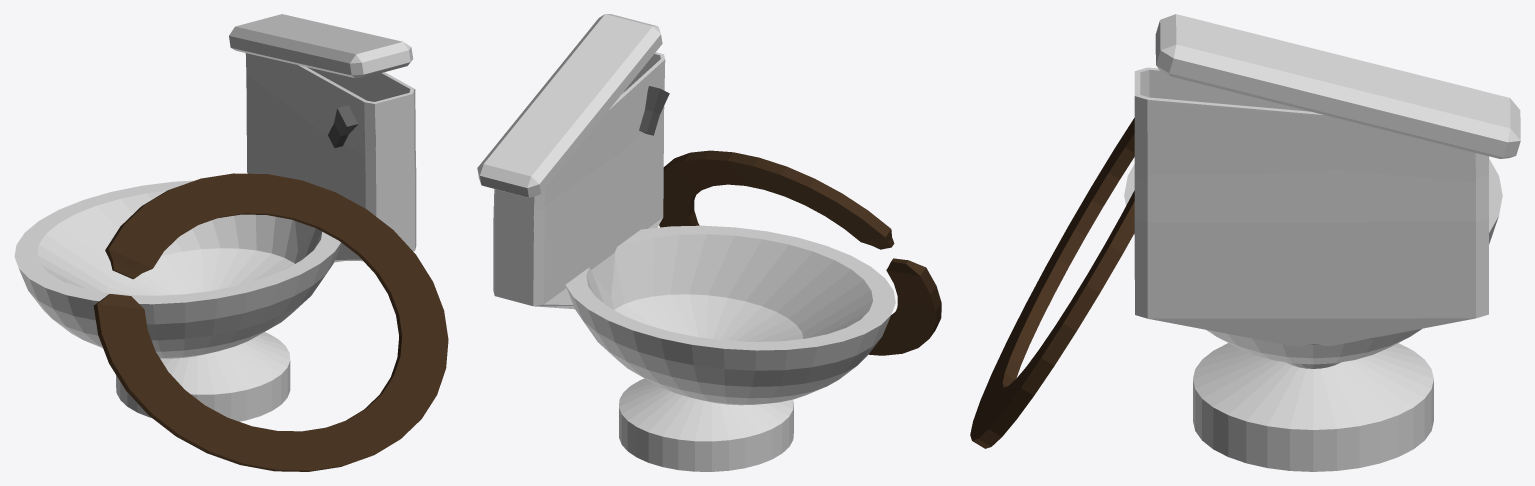
Rendered from toilet_broken.fbx.
3 renders of one model, left to right at view 1: azimuth 30°, elevation 25°; view 2: azimuth 150°, elevation 25°; view 3: azimuth 270°, elevation 25°, orthographic. The views are drawn at different scales.
Visible parts, largest first — view 1: Sphere; view 2: Sphere; view 3: Sphere.
Part boxes in pixels (<box>): Sphere: <box>14,14,448,471</box>; Sphere: <box>477,14,941,471</box>; Sphere: <box>970,14,1520,471</box>.
Bounding box in the file's own units: 274 × 273 × 285.
